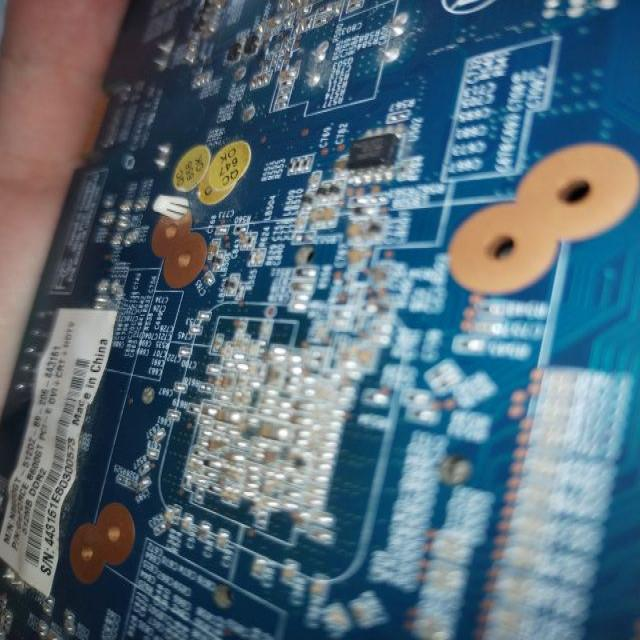capacitor: (224, 212, 256, 249)
